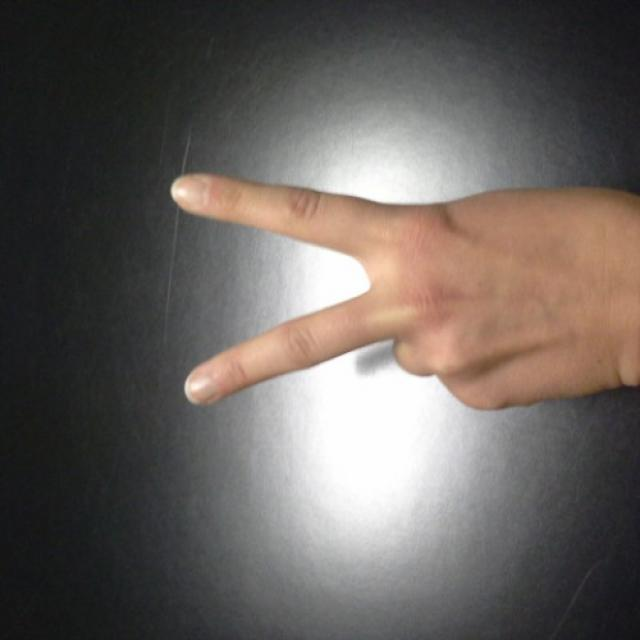scissors: (171, 170, 579, 410)
